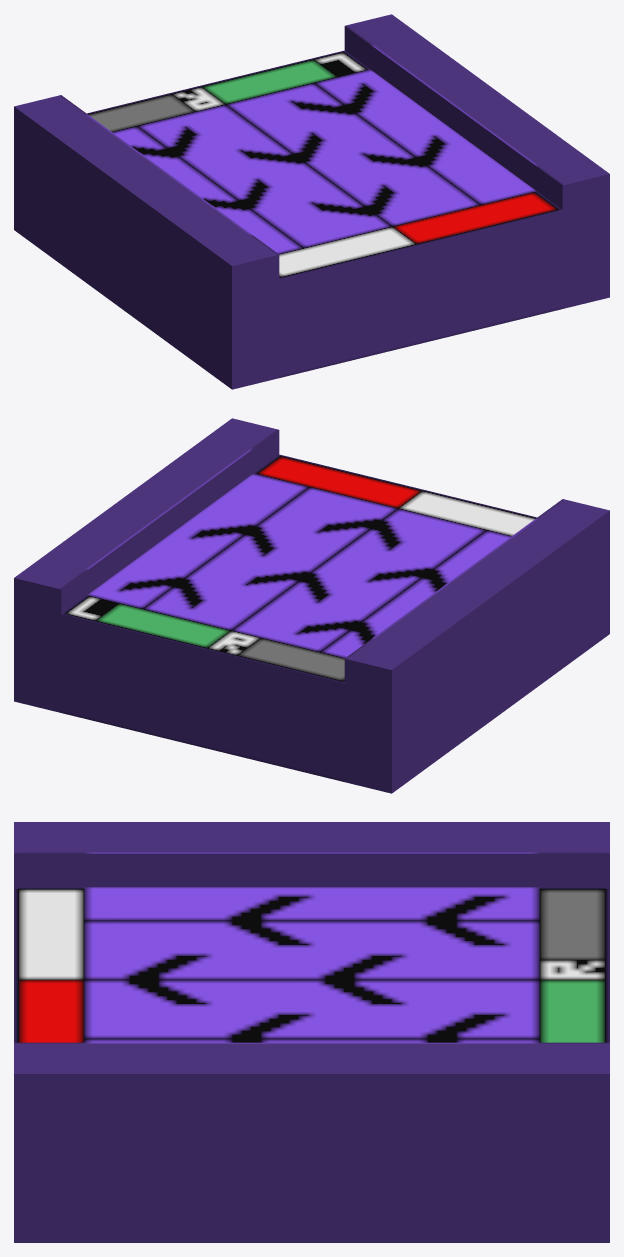
The model's file is front.obj.
3 renders of one model, top to bottom at view 1: azimuth 30°, elevation 25°; view 2: azimuth 150°, elevation 25°; view 3: azimuth 270°, elevation 25°, orthographic. The views are drawn at different scales.
Parts seen in each view (by area): view 1: Front; view 2: Front; view 3: Front.
Boxes of the visible parts, left/top/right/bottom form: Front: left=14, top=14, right=609, bottom=389; Front: left=14, top=418, right=609, bottom=793; Front: left=14, top=822, right=609, bottom=1242.
Bounding box in the file's own units: 4 × 1.25 × 4.
1 material, 1 textured.
